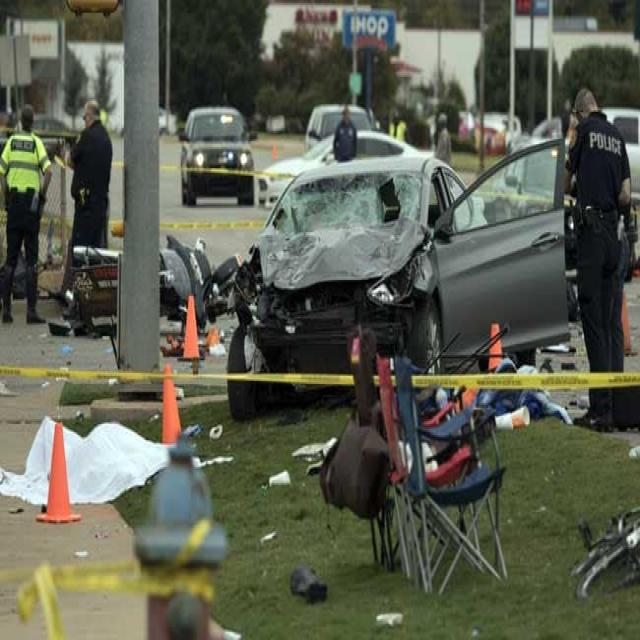accident: (228, 142, 569, 374)
car: (180, 108, 254, 205)
